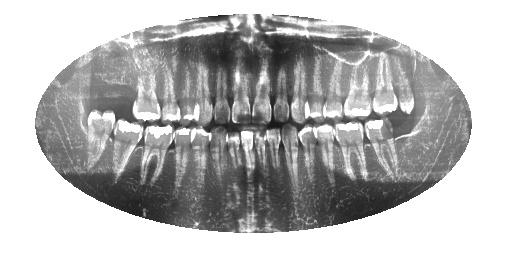i10healthy: (223, 129, 246, 173)
i11decay: (204, 125, 230, 178)
i12healthy: (186, 126, 214, 182)
i13healthy: (169, 124, 196, 184)
i14healthy: (137, 121, 178, 193)
i15healthy: (110, 115, 144, 184)
i16healthy: (83, 108, 119, 174)
i1loss: (392, 116, 421, 163)
i2healthy: (361, 117, 405, 181)
i3healthy: (332, 120, 372, 185)
i4healthy: (310, 121, 344, 188)
i5healthy: (294, 125, 325, 191)
i6decay: (277, 122, 305, 191)
i7healthy: (265, 124, 286, 178)
i8healthy: (250, 125, 273, 174)
i9healthy: (238, 127, 259, 174)
u10decay: (206, 50, 237, 127)
u11healthy: (190, 45, 217, 128)
u12healthy: (175, 40, 198, 123)
u13healthy: (153, 46, 185, 125)
u14healthy: (128, 52, 165, 124)
u15loss: (117, 53, 143, 118)
u16loss: (91, 54, 122, 111)
u1healthy: (391, 48, 419, 117)
u2healthy: (368, 45, 401, 118)
u3healthy: (340, 51, 376, 120)
u4healthy: (319, 52, 350, 117)
u5healthy: (298, 50, 334, 121)
u6healthy: (283, 49, 314, 129)
u7healthy: (263, 50, 296, 127)
u8healthy: (243, 50, 280, 124)
u9healthy: (226, 49, 255, 127)
